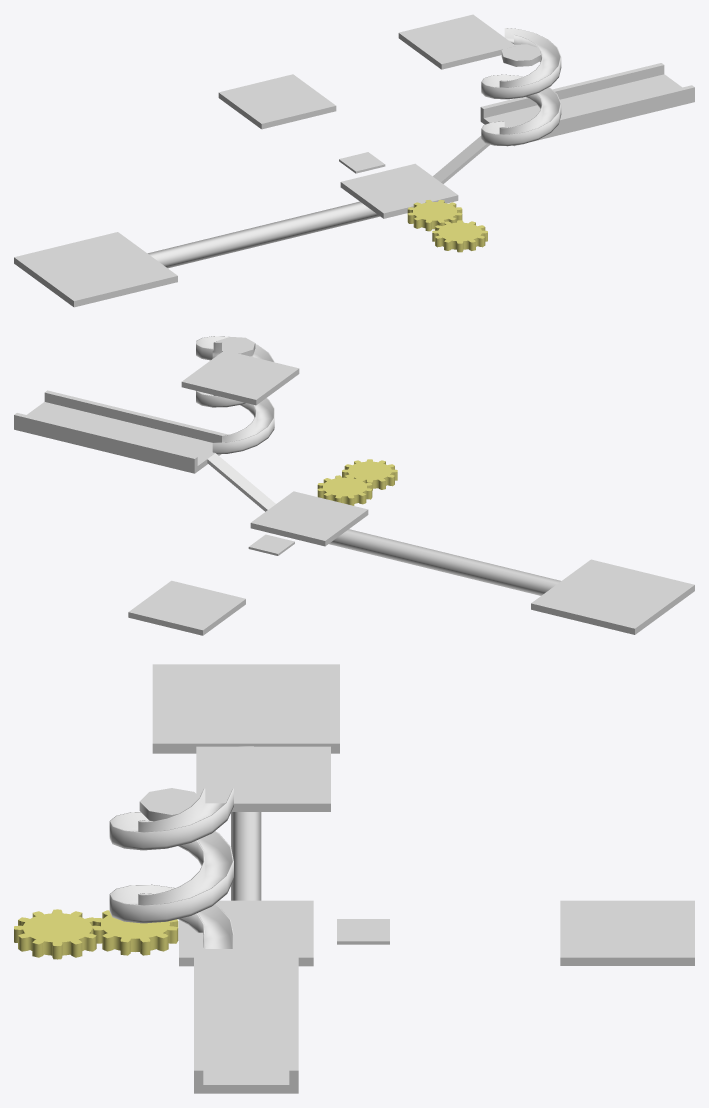
Rendered from level2.glb.
3 renders of one model, top to bottom at view 1: azimuth 30°, elevation 25°; view 2: azimuth 150°, elevation 25°; view 3: azimuth 270°, elevation 25°, orthographic. The views are drawn at different scales.
Parts seen in each view (by area): view 1: platform-ab, Cube-col.003, spiral-col, Cylinder-ab, Cube-col.004, Cube-col.001, Cube-col, Gear2-ab, Gear-ab, Cube-col.002, elevator-ab, Cube-ab; view 2: Cube-col.003, platform-ab, Cylinder-ab, Cube-col, Cube-col.001, Cube-col.004, spiral-col, Gear-ab, Gear2-ab, Cube-col.002, Cube-ab, elevator-ab; view 3: platform-ab, Cube-col.003, spiral-col, Cube-col.004, Cube-col.001, Cube-col, Gear2-ab, Cylinder-ab, Gear-ab, elevator-ab, Cube-ab.
Part boxes in pixels (<box>): platform-ab: <box>14,232,177,307</box>; Cube-col.003: <box>480,63,694,145</box>; spiral-col: <box>481,28,561,146</box>; Cylinder-ab: <box>147,201,379,268</box>; Cube-col.004: <box>218,74,336,129</box>; Cube-col.001: <box>398,14,515,69</box>; Cube-col: <box>340,163,458,218</box>; Gear2-ab: <box>432,220,487,252</box>; Gear-ab: <box>407,200,462,231</box>; Cube-col.002: <box>433,136,489,183</box>; elevator-ab: <box>501,44,540,66</box>; Cube-ab: <box>339,152,385,173</box>; Cube-col.003: <box>14,390,228,473</box>; platform-ab: <box>531,559,694,634</box>; Cylinder-ab: <box>329,529,560,595</box>; Cube-col: <box>250,491,368,546</box>; Cube-col.001: <box>181,350,299,405</box>; Cube-col.004: <box>128,580,245,635</box>; spiral-col: <box>196,336,274,454</box>; Gear-ab: <box>317,475,372,505</box>; Gear2-ab: <box>342,459,397,490</box>; Cube-col.002: <box>207,453,275,511</box>; Cube-ab: <box>248,534,294,555</box>; elevator-ab: <box>217,337,255,356</box>; platform-ab: <box>152,664,339,753</box>; Cube-col.003: <box>194,932,298,1093</box>; spiral-col: <box>109,788,233,948</box>; Cube-col.004: <box>560,900,694,965</box>; Cube-col.001: <box>196,746,330,811</box>; Cube-col: <box>179,900,313,966</box>; Gear2-ab: <box>14,909,99,959</box>; Cylinder-ab: <box>231,746,261,900</box>; Gear-ab: <box>92,910,178,955</box>; elevator-ab: <box>139,788,196,821</box>; Cube-ab: <box>337,919,389,944</box>.
Size of the model in its own units: 75.34 by 18.17 by 44.88.
